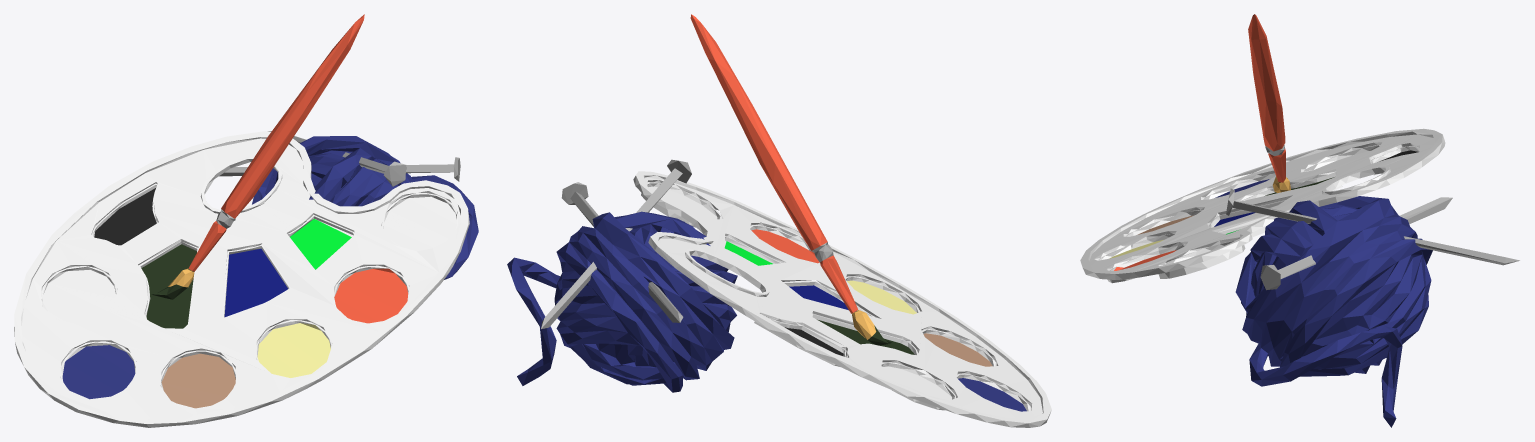
Rendered from artsCrafts.glb.
3 renders of one model, left to right at view 1: azimuth 30°, elevation 25°; view 2: azimuth 150°, elevation 25°; view 3: azimuth 270°, elevation 25°, orthographic. The views are drawn at different scales.
Visible parts, largest first — view 1: artsCrafts; view 2: artsCrafts; view 3: artsCrafts.
Part boxes in pixels (bbox=[...]): artsCrafts: bbox=[14, 14, 478, 427]; artsCrafts: bbox=[507, 14, 1051, 427]; artsCrafts: bbox=[1080, 14, 1519, 427].
Size of the model in its own units: 27.07 by 18.02 by 19.86.
1 material, 1 textured.
